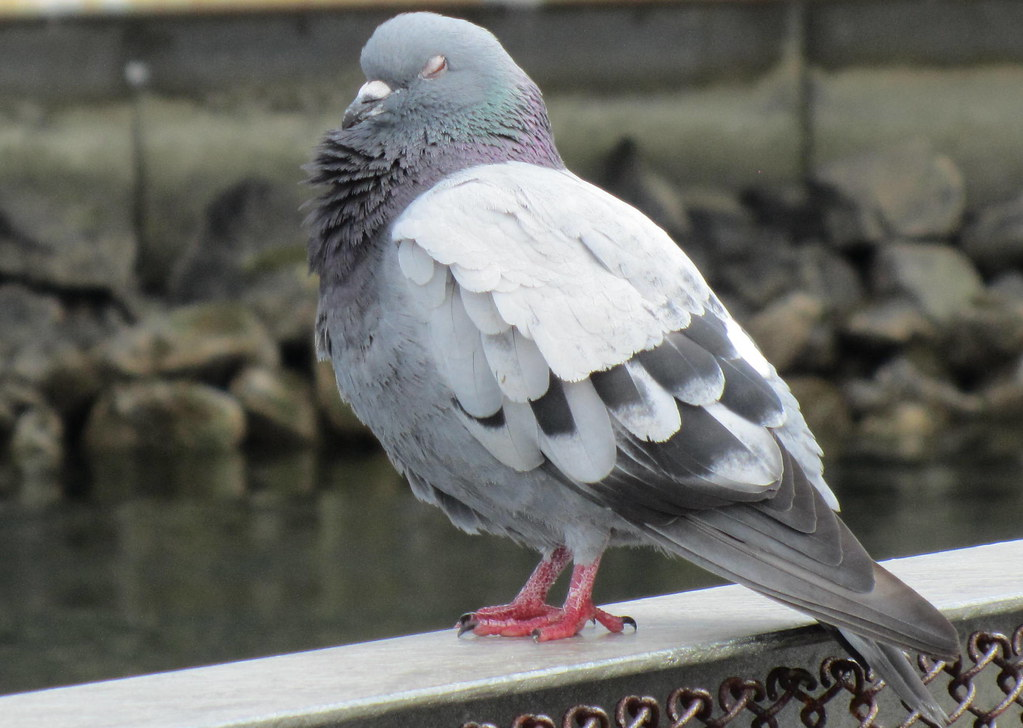pigeon: (293, 8, 990, 728)
